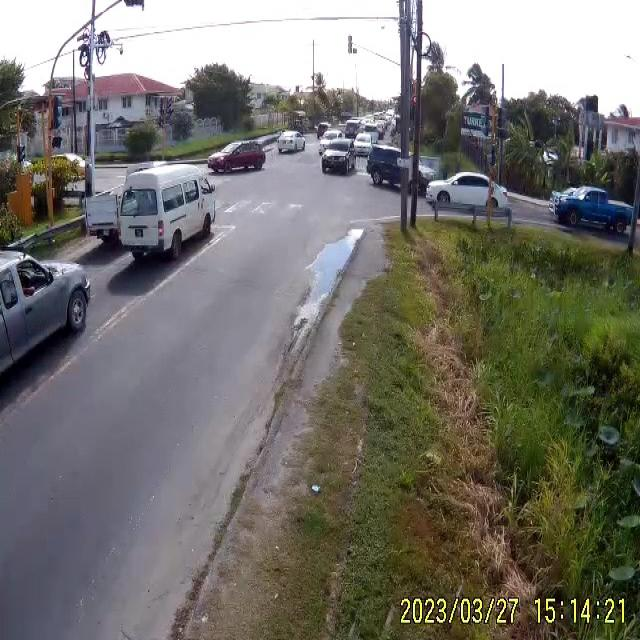car: (0, 244, 94, 378), (108, 165, 216, 262), (554, 188, 635, 234), (426, 172, 509, 212), (366, 147, 429, 191), (207, 142, 266, 174), (320, 139, 354, 176), (277, 131, 305, 154)
